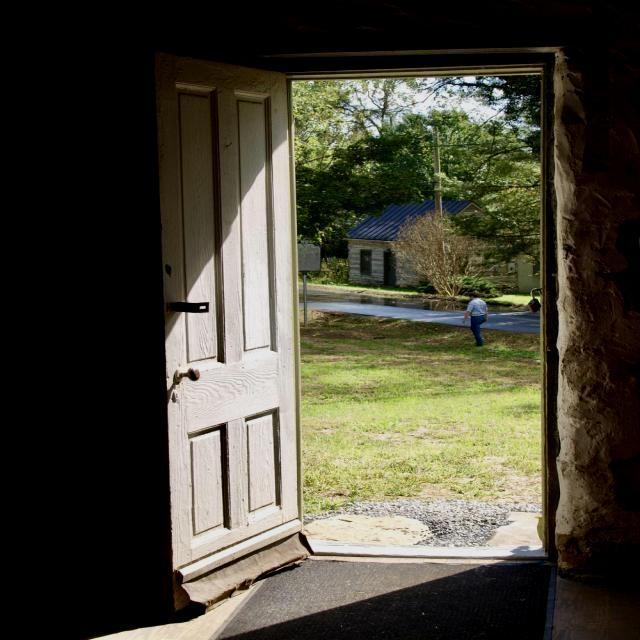door: (155, 53, 304, 584)
